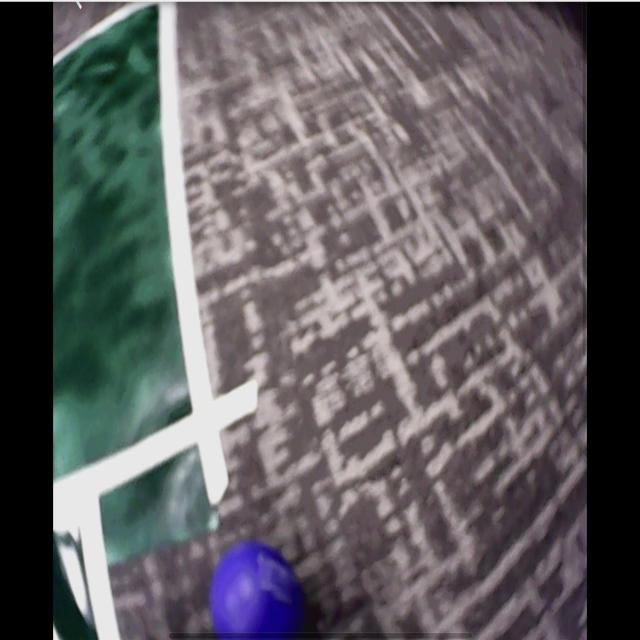ball: (209, 545, 307, 640)
